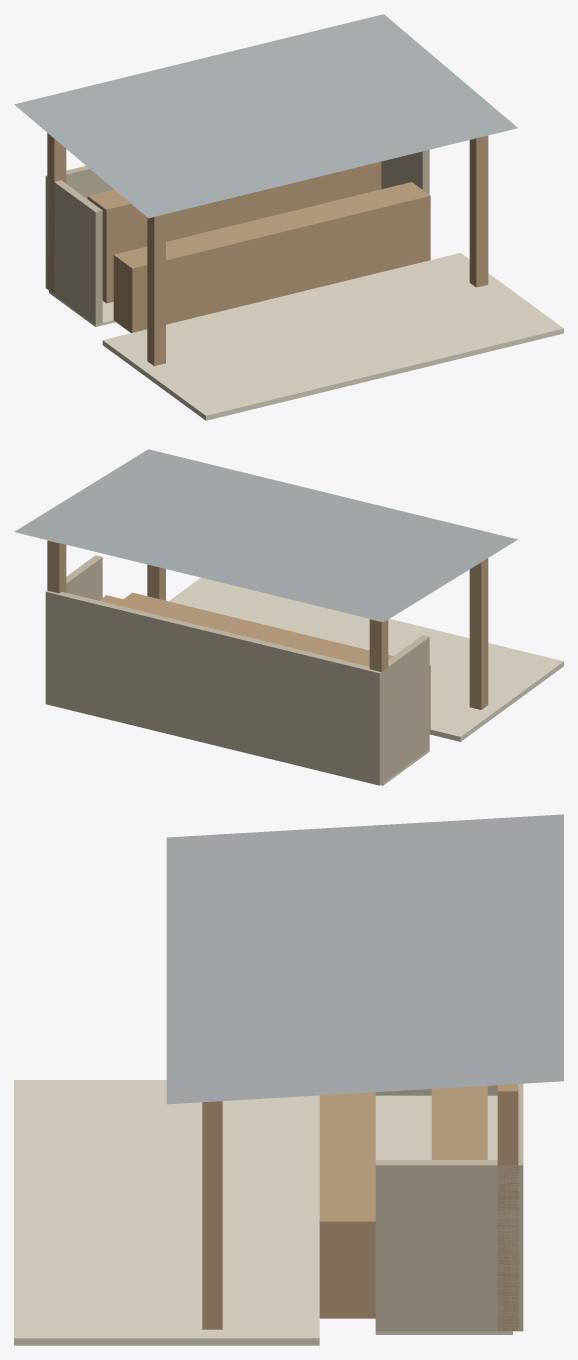
The model's file is farmstead-produce-stand.glb.
3 renders of one model, top to bottom at view 1: azimuth 30°, elevation 25°; view 2: azimuth 150°, elevation 25°; view 3: azimuth 270°, elevation 25°, orthographic. The views are drawn at different scales.
Visible parts, largest first — view 1: standing-seam metal, timber, stone, board and batten; view 2: board and batten, standing-seam metal, stone, timber; view 3: standing-seam metal, stone, timber, board and batten.
Boxes of the visible parts, x1,y1,x2,y2 form: standing-seam metal: (14, 14, 517, 218); timber: (47, 133, 488, 366); stone: (49, 253, 563, 420); board and batten: (45, 150, 429, 324); board and batten: (45, 555, 429, 785); standing-seam metal: (14, 449, 517, 621); stone: (169, 577, 563, 785); timber: (47, 540, 488, 777); standing-seam metal: (166, 814, 563, 1104); stone: (14, 1080, 512, 1345); timber: (202, 1084, 518, 1331); board and batten: (375, 1083, 523, 1331).
Size of the model in its own units: 6.2 by 2.91 by 5.4.
